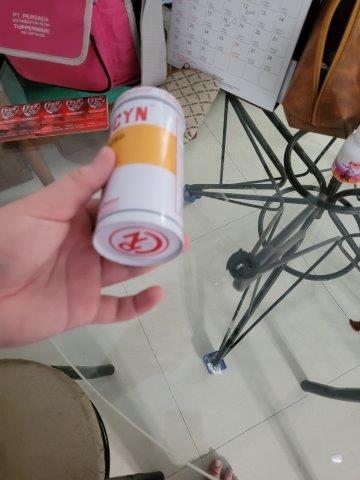kaleng: (91, 88, 187, 267)
